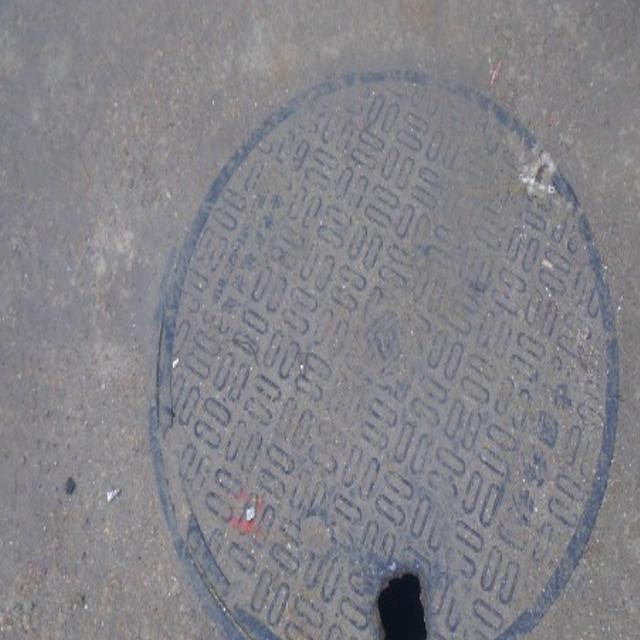broke: (152, 64, 624, 640)
